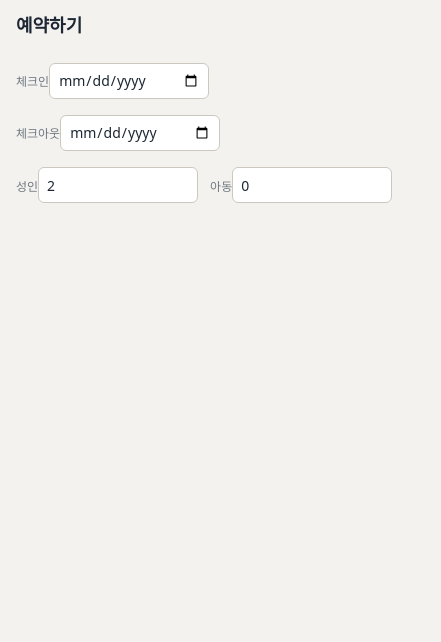
Scenario: 직접예약 위젯 › 홀드가 되면 확인번호와 결제 마감 시각을 보여 준다
Step 1. Type "2027-08-05" into the date field labelled "체크인" → (129, 81), box [49,63,209,99]
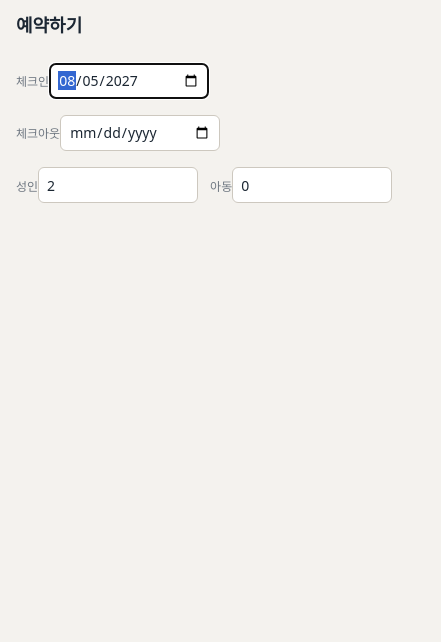
Step 2. Type "2027-08-07" into the date field labelled "체크아웃" → (140, 133), box [60,115,220,151]
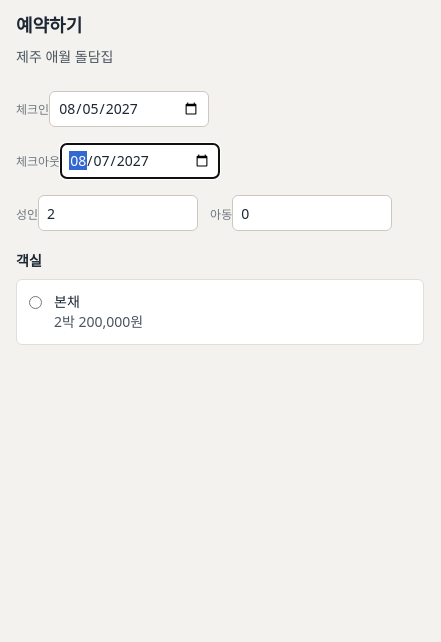
Step 3. Click the radio button → (36, 302), box [29,296,42,309]
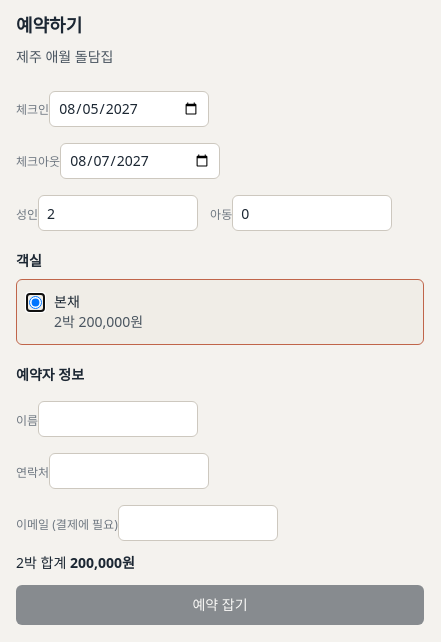
Step 4. Type "김손님" into the field labelled "이름" → (118, 419), box [38,401,198,437]
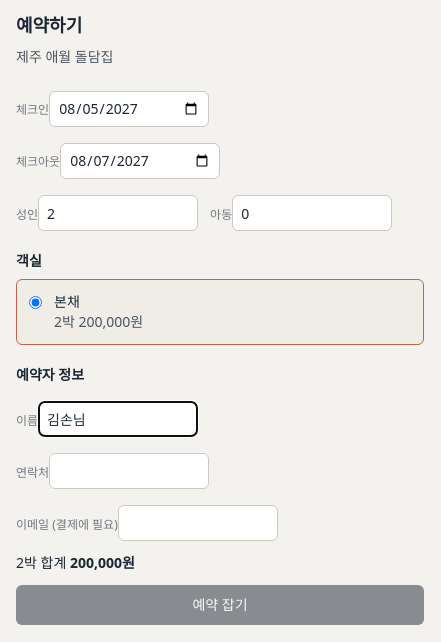
Step 5. Type "guest@example.com" into the field labelled "이메일" → (198, 523), box [118,505,278,541]
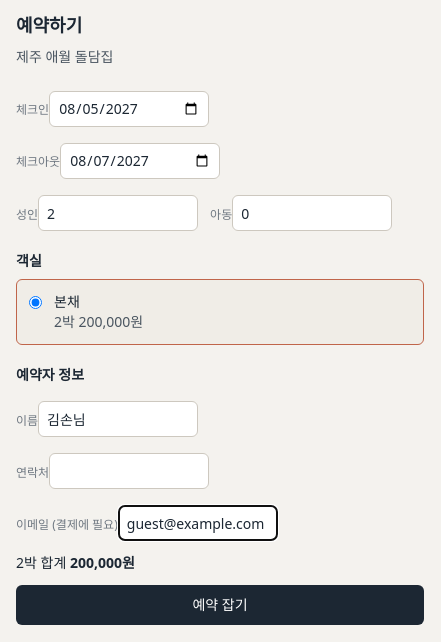
Step 6. Click the button "예약 잡기" → (220, 605), box [16,585,424,625]
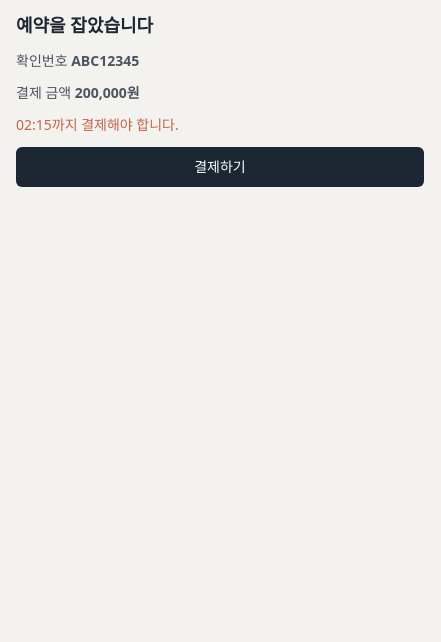
Now the text "ABC12345" is shown, box [71,51,139,70]
Now the text "02:15까지 결제해야 합니다." is shown, box [16,115,179,134]
